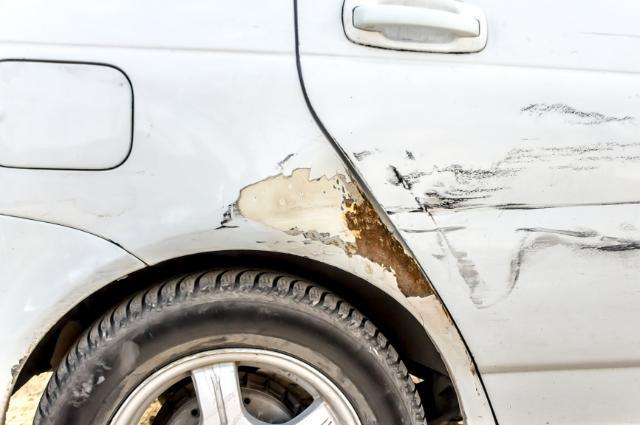Door: (364, 55, 640, 278)
Fender: (209, 120, 420, 303)
